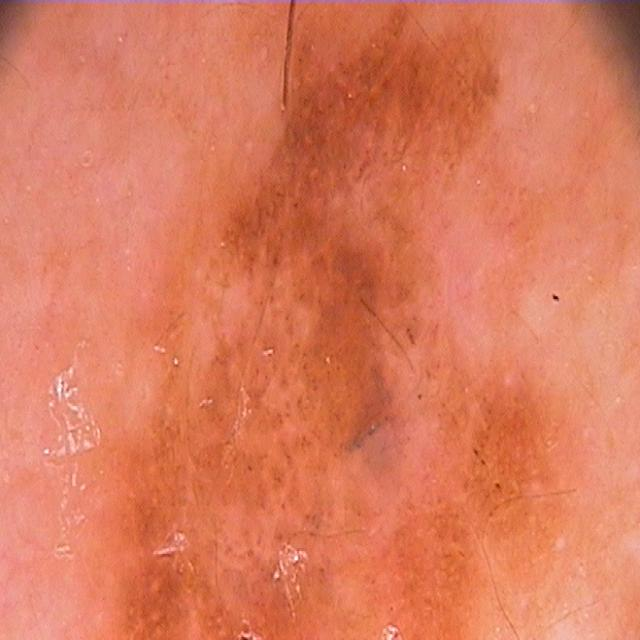Melanoma: (46, 20, 567, 640)
